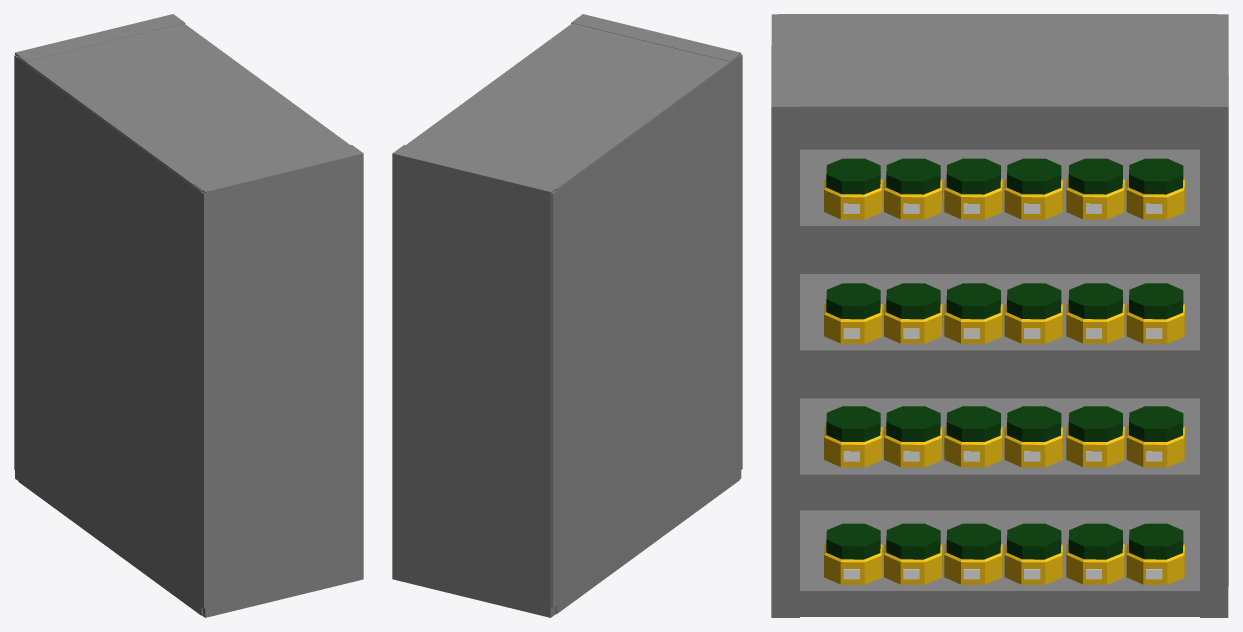
Rendered from lemongrass_bodycream_shelf.gltf.
The picture shows the model from 3 angles, left to right: view 1: azimuth 30°, elevation 25°; view 2: azimuth 150°, elevation 25°; view 3: azimuth 270°, elevation 25°; orthographic projection. The views are drawn at different scales.
Visible parts, largest first — view 1: Cube; view 2: Cube; view 3: Cube.
Boxes of the visible parts, x1,y1,x2,y2 form: Cube: (14,14,363,617); Cube: (392,14,742,617); Cube: (771,14,1228,617).
Bounding box in the file's own units: 4.03 × 10.28 × 8.34.
Materials: 4 (1 with a texture image).
